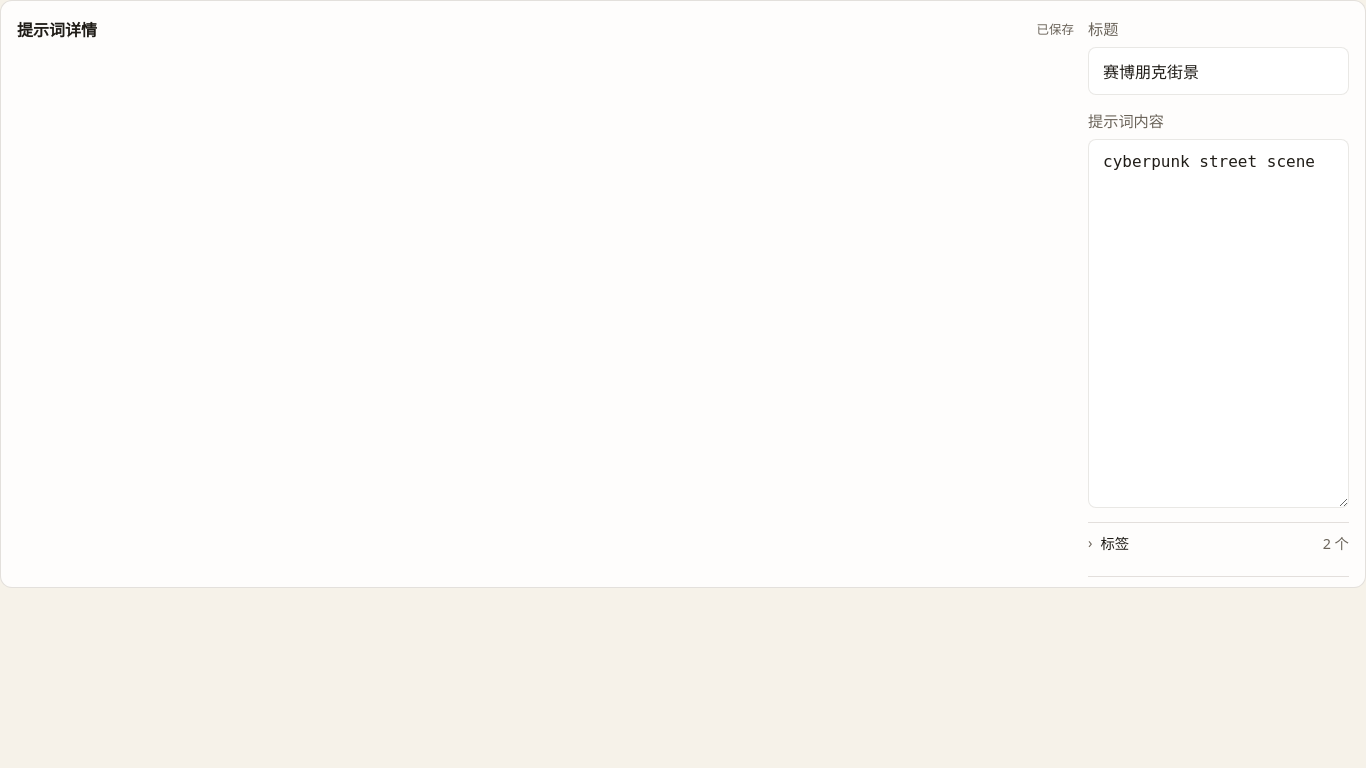
it: PromptEditor › shows an error and retries the latest failed patch
Replace the text in the text box labelled "提示词内容" with "latest patch" at coordinates (1218, 323), box [1088,139,1349,508]
Wait 850 ms
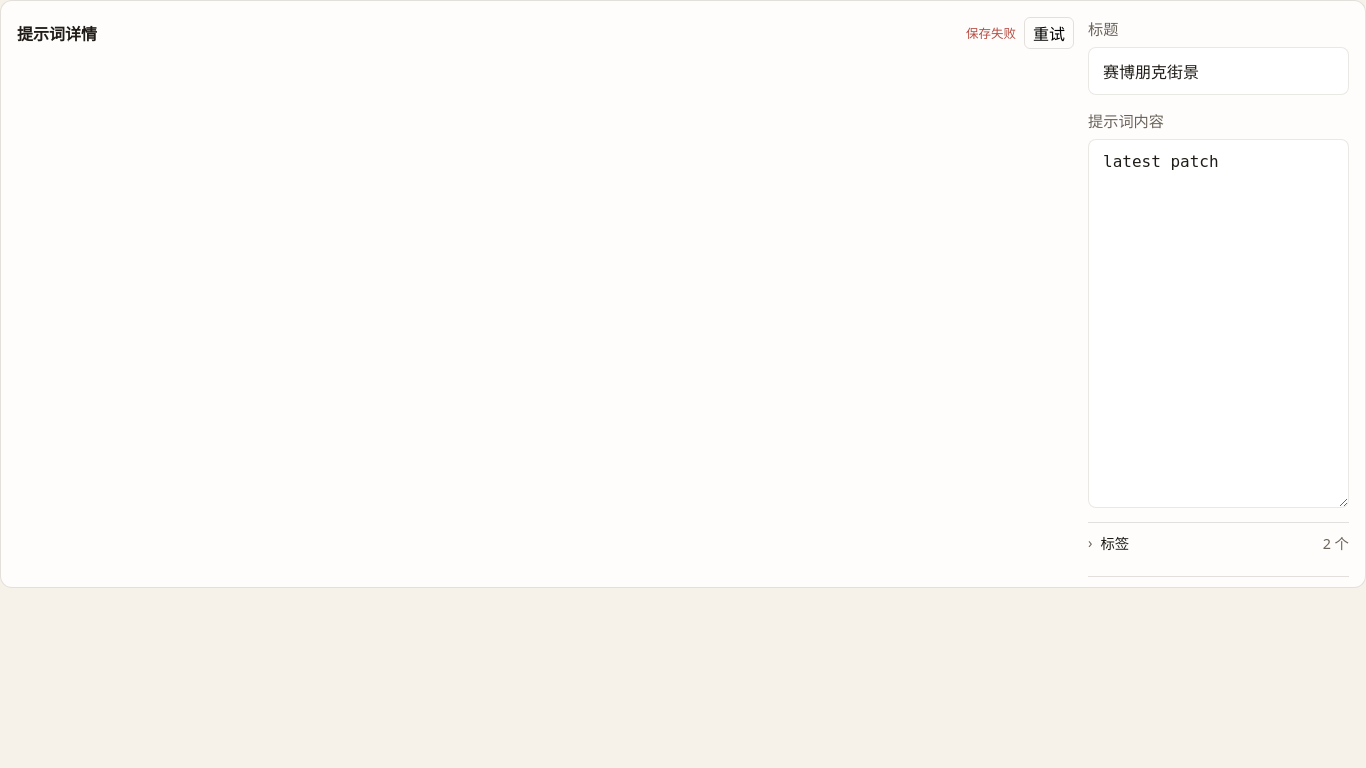
Now the message reads "保存失败", box [966,25,1016,42]
Click the button "重试" at coordinates (1049, 33), box [1024,17,1074,49]
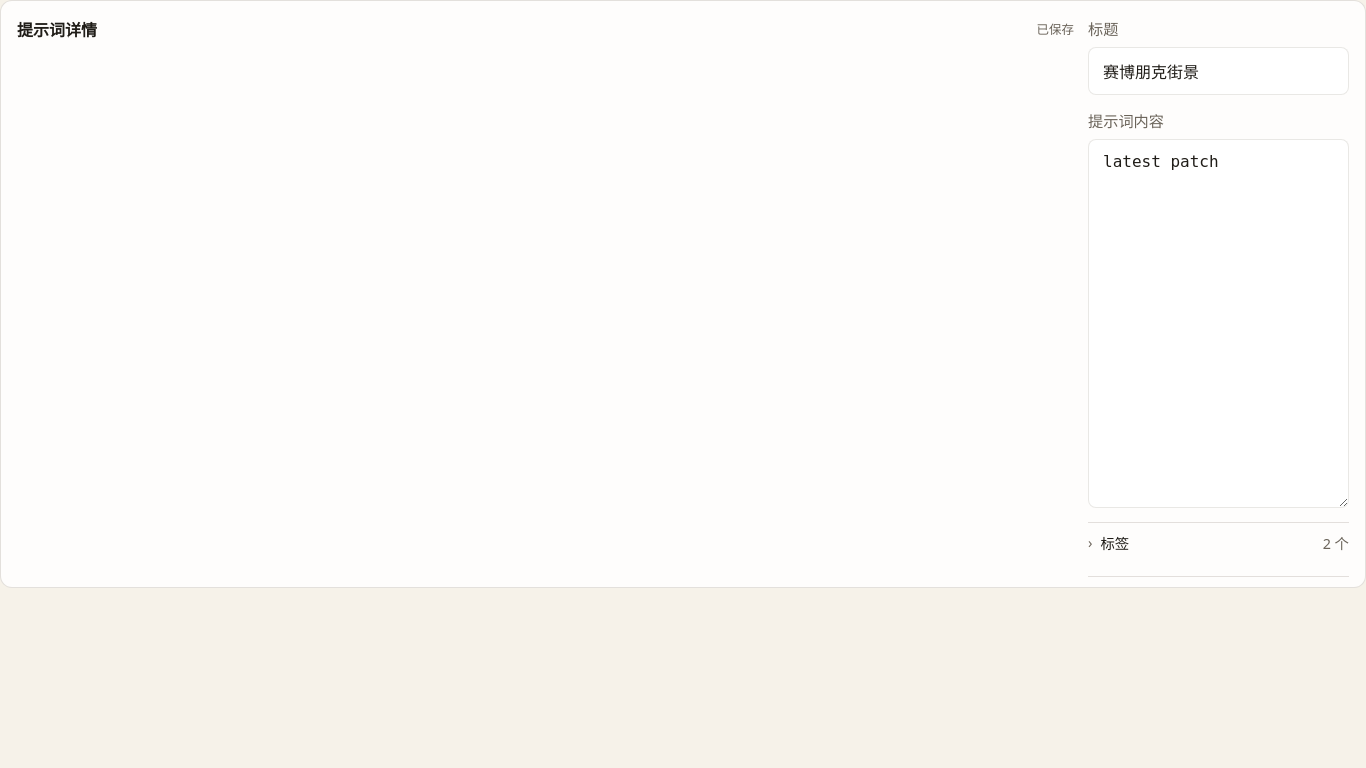
Now the message reads "已保存", box [1037,21,1074,38]
